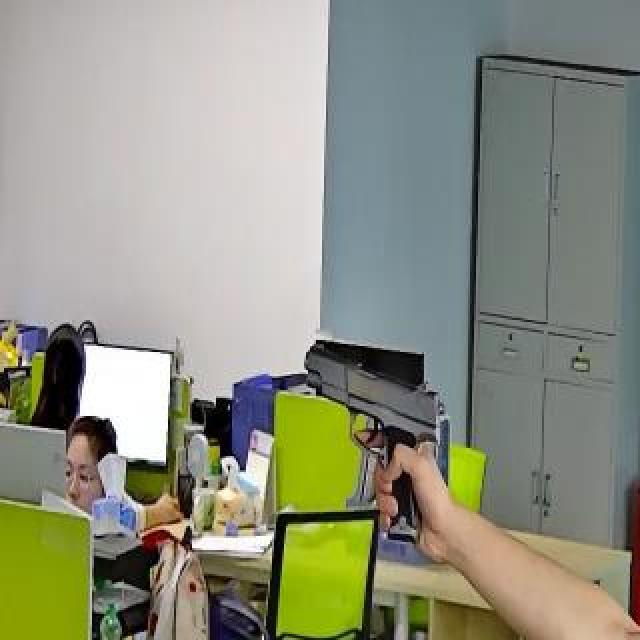Guns: (285, 321, 505, 554)
